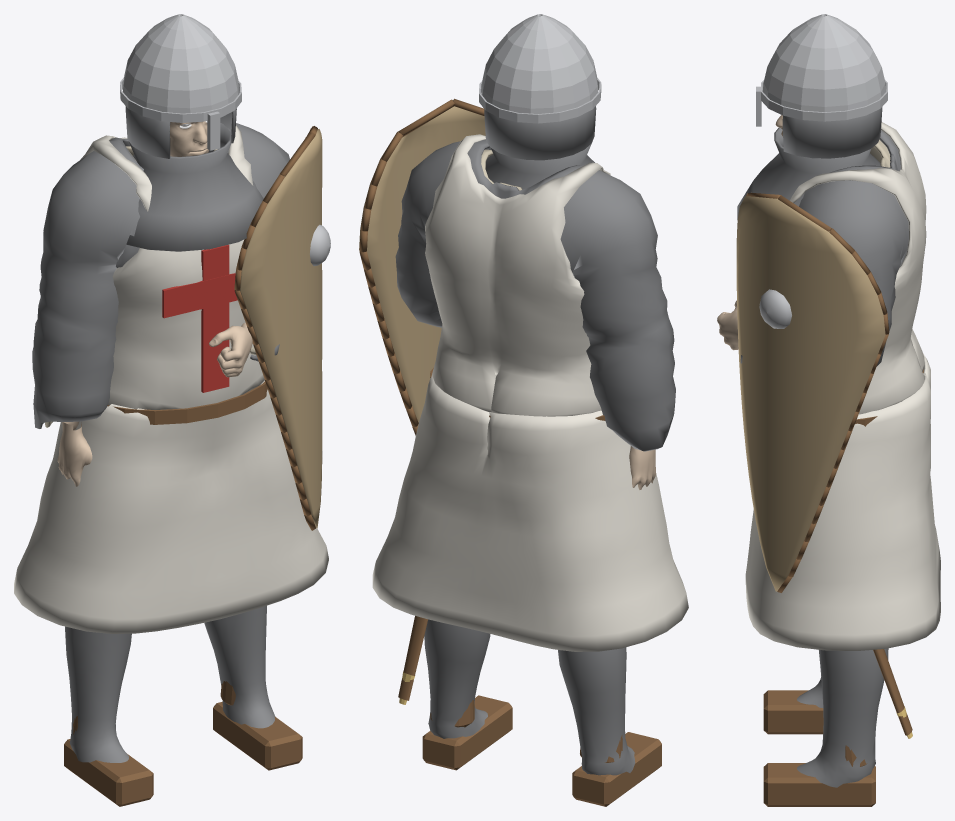
The model's file is SM_English_Tier2.fbx.
3 renders of one model, left to right at view 1: azimuth 30°, elevation 25°; view 2: azimuth 150°, elevation 25°; view 3: azimuth 270°, elevation 25°, orthographic.
Parts seen in each view (by area): view 1: Surcoat, Mail Hauberk, Kite Shield, Mail Coif, Mail Chausses, Conical Nasal Helm, Leather Shoes, Red Cross, Tier 2 Soldier, Kite Shield Edging, Sword Belt, Kite Shield Boss; view 2: Surcoat, Mail Hauberk, Mail Chausses, Kite Shield, Conical Nasal Helm, Leather Shoes, Mail Coif, Kite Shield Edging, Scabbard, Tier 2 Soldier; view 3: Surcoat, Kite Shield, Conical Nasal Helm, Mail Chausses, Mail Hauberk, Mail Coif, Leather Shoes, Kite Shield Edging, Kite Shield Boss, Scabbard, Tier 2 Soldier.
Part boxes in pixels (x1=…): Surcoat: x1=14, y1=125, x2=328, y2=633; Mail Hauberk: x1=32, y1=123, x2=289, y2=428; Kite Shield: x1=240, y1=129, x2=322, y2=528; Mail Coif: x1=125, y1=106, x2=263, y2=251; Mail Chausses: x1=65, y1=605, x2=275, y2=762; Conical Nasal Helm: x1=120, y1=14, x2=241, y2=150; Leather Shoes: x1=64, y1=681, x2=302, y2=806; Red Cross: x1=162, y1=244, x2=237, y2=392; Tier 2 Soldier: x1=57, y1=121, x2=252, y2=486; Kite Shield Edging: x1=234, y1=126, x2=317, y2=530; Sword Belt: x1=107, y1=381, x2=267, y2=424; Kite Shield Boss: x1=310, y1=224, x2=330, y2=266; Surcoat: x1=372, y1=134, x2=688, y2=651; Mail Hauberk: x1=395, y1=139, x2=675, y2=451; Mail Chausses: x1=424, y1=619, x2=635, y2=775; Kite Shield: x1=359, y1=100, x2=485, y2=422; Conical Nasal Helm: x1=479, y1=14, x2=601, y2=123; Leather Shoes: x1=422, y1=695, x2=661, y2=806; Mail Coif: x1=484, y1=106, x2=596, y2=189; Kite Shield Edging: x1=359, y1=98, x2=484, y2=435; Scabbard: x1=398, y1=616, x2=427, y2=700; Tier 2 Soldier: x1=629, y1=446, x2=656, y2=489; Surcoat: x1=745, y1=122, x2=940, y2=650; Kite Shield: x1=736, y1=196, x2=885, y2=591; Conical Nasal Helm: x1=756, y1=14, x2=887, y2=126; Mail Chausses: x1=797, y1=648, x2=888, y2=787; Mail Hauberk: x1=740, y1=130, x2=908, y2=366; Mail Coif: x1=737, y1=107, x2=882, y2=219; Leather Shoes: x1=763, y1=690, x2=875, y2=806; Kite Shield Edging: x1=746, y1=192, x2=889, y2=592; Kite Shield Boss: x1=759, y1=289, x2=791, y2=328; Scabbard: x1=873, y1=649, x2=912, y2=735; Tier 2 Soldier: x1=717, y1=115, x2=782, y2=350.
Size of the model in its own units: 0.7789 by 0.5172 by 1.91.
